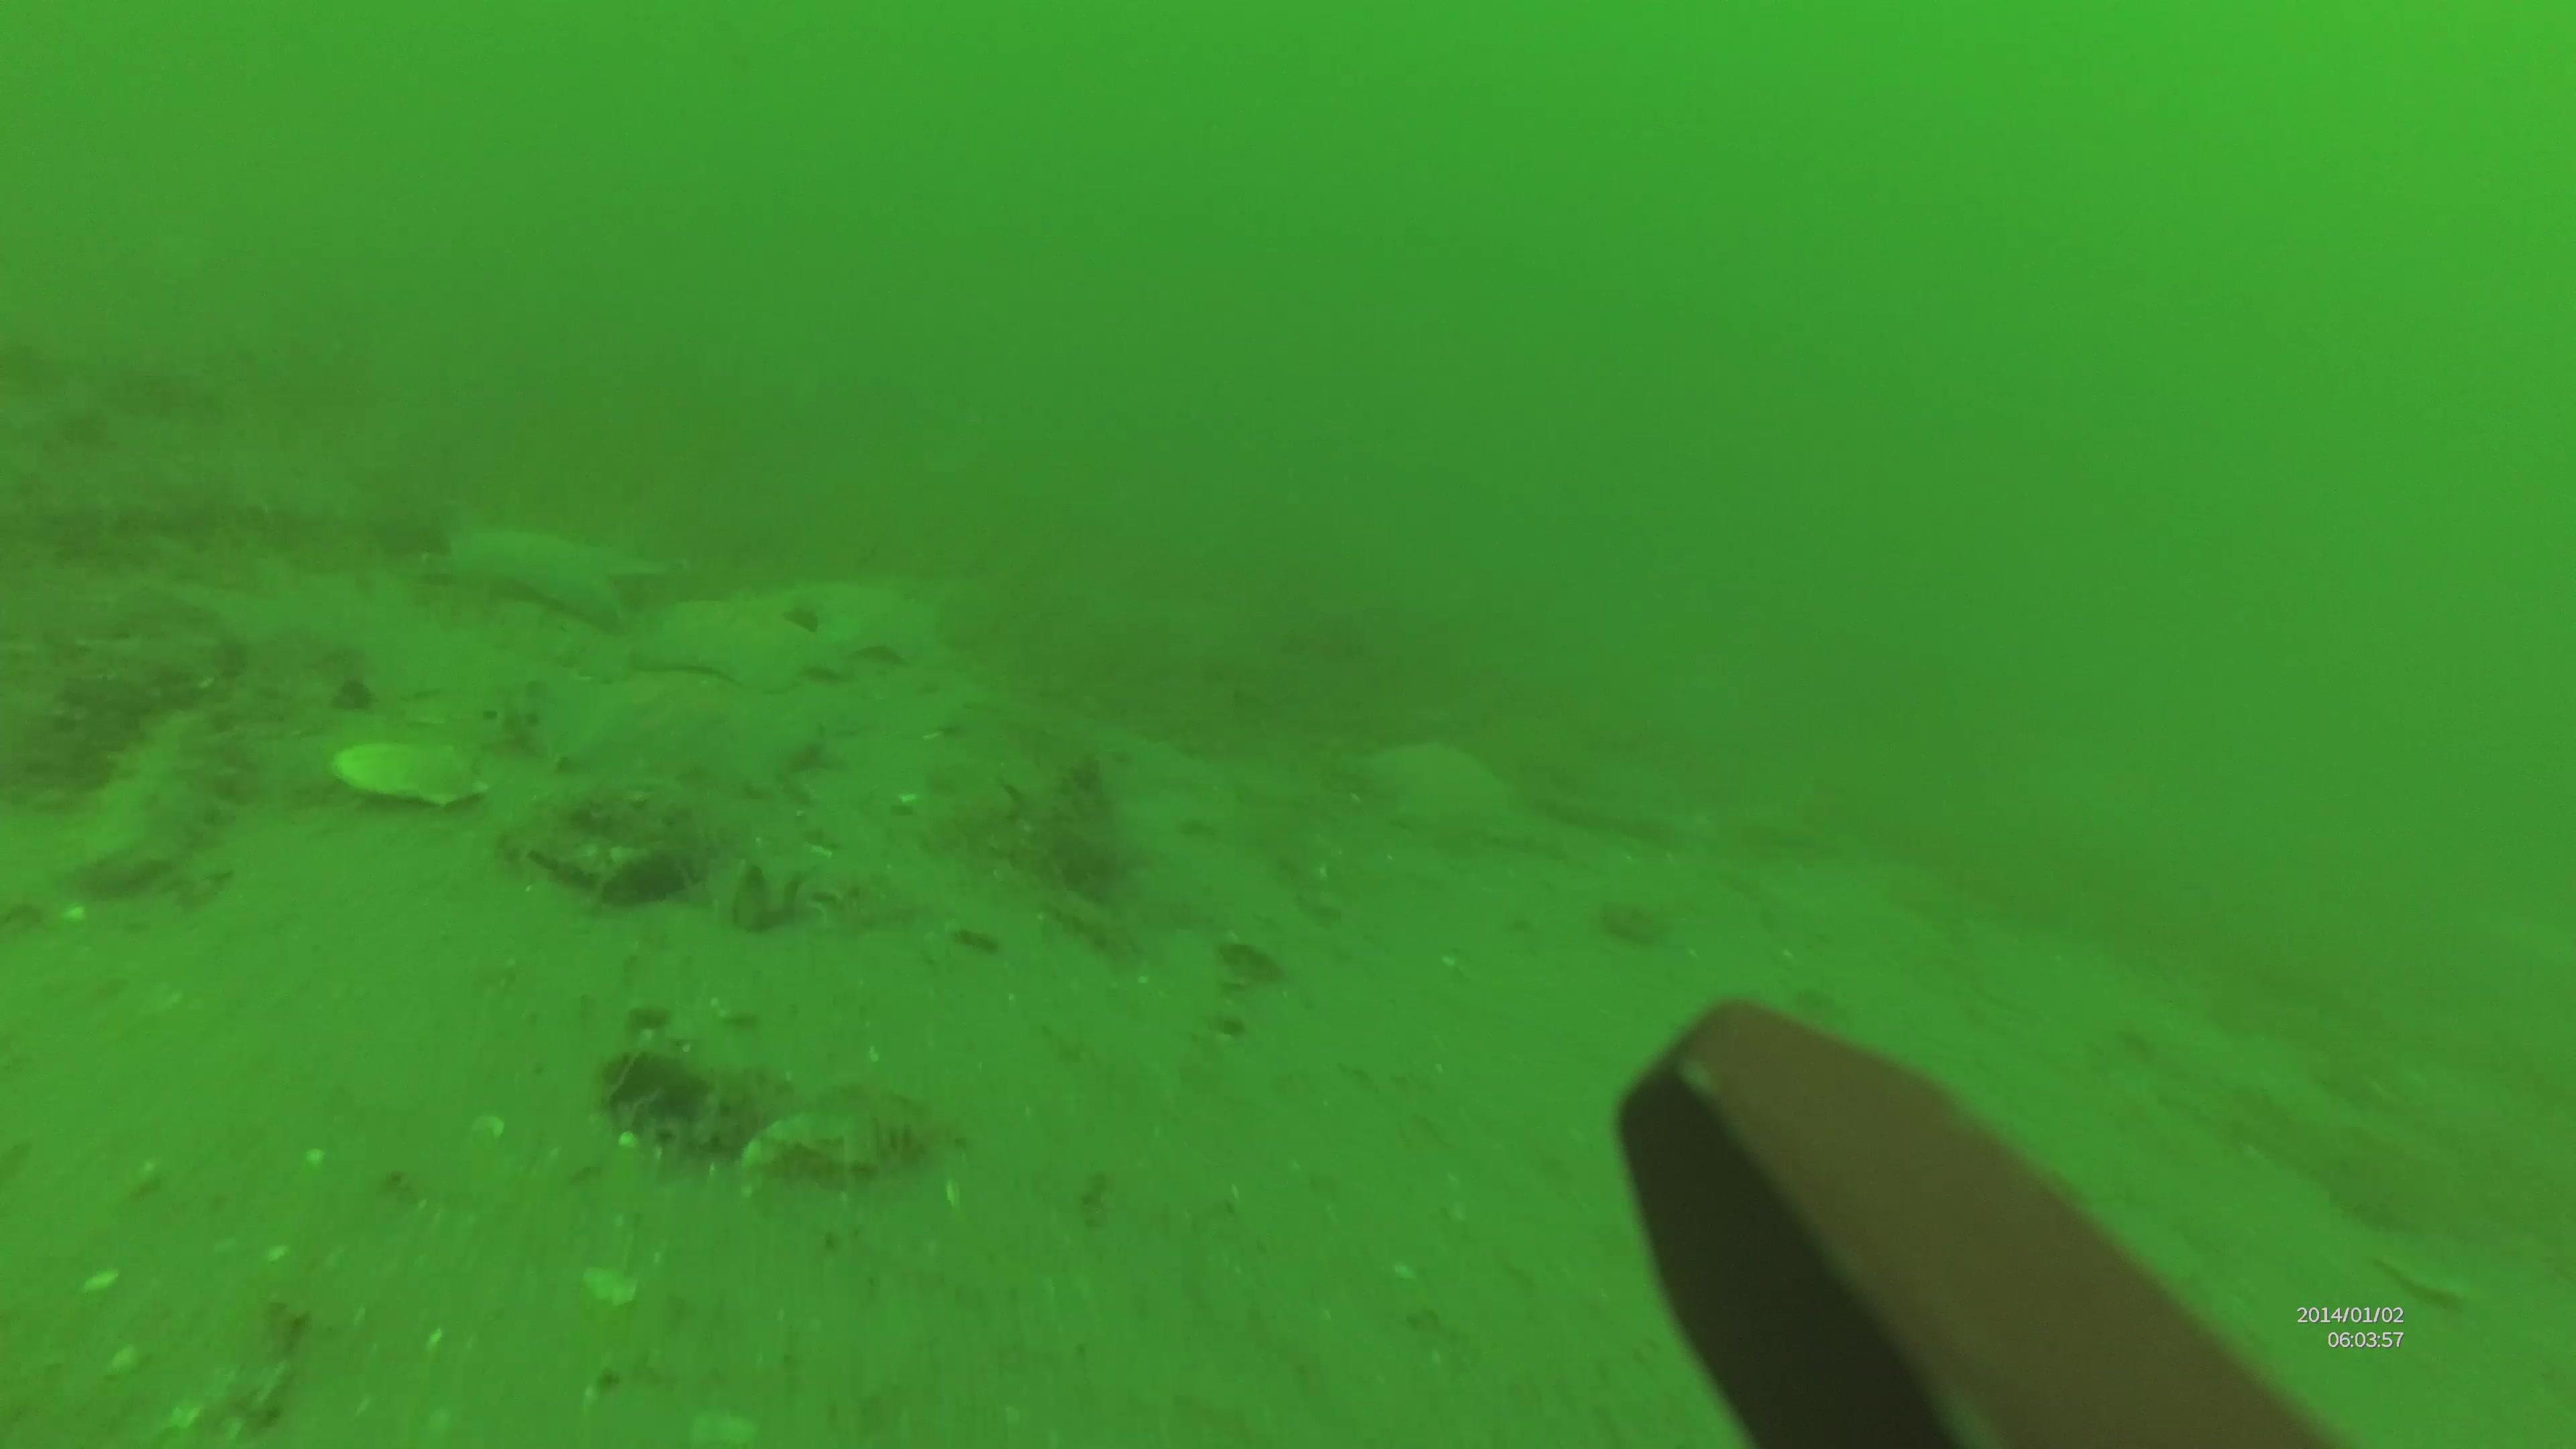holothurian: (64, 667, 299, 925), (4, 609, 237, 803)
scallop: (333, 732, 492, 809)
starfish: (425, 502, 663, 644), (1348, 736, 1562, 855), (639, 587, 833, 701), (782, 571, 939, 669)
